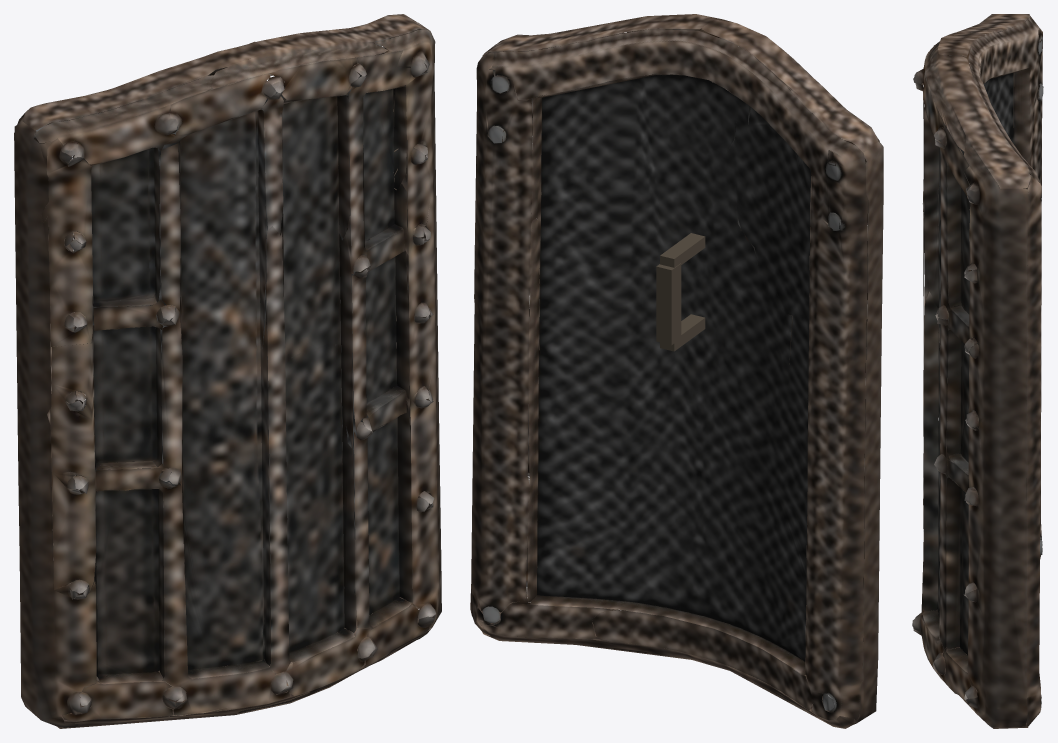
File: ash_aegis.glb
3 renders of one model, left to right at view 1: azimuth 30°, elevation 25°; view 2: azimuth 150°, elevation 25°; view 3: azimuth 270°, elevation 25°, orthographic. The views are drawn at different scales.
Parts seen in each view (by area): view 1: sprzet_ash_aegis.001; view 2: sprzet_ash_aegis.001, uchwyt_sprzet_ash_aegis_chwyt.001, uchwyt_sprzet_ash_aegis_wspornik_gora.001, uchwyt_sprzet_ash_aegis_wspornik_dol.001; view 3: sprzet_ash_aegis.001.
Part boxes in pixels (<box>): sprzet_ash_aegis.001: <box>14,14,441,728</box>; sprzet_ash_aegis.001: <box>470,14,883,728</box>; uchwyt_sprzet_ash_aegis_chwyt.001: <box>656,263,681,345</box>; uchwyt_sprzet_ash_aegis_wspornik_gora.001: <box>660,233,705,267</box>; uchwyt_sprzet_ash_aegis_wspornik_dol.001: <box>660,314,705,351</box>; sprzet_ash_aegis.001: <box>912,14,1043,728</box>.
Size of the model in its own units: 0.6695 by 1.02 by 0.2036.
Materials: 2 (1 with a texture image).
